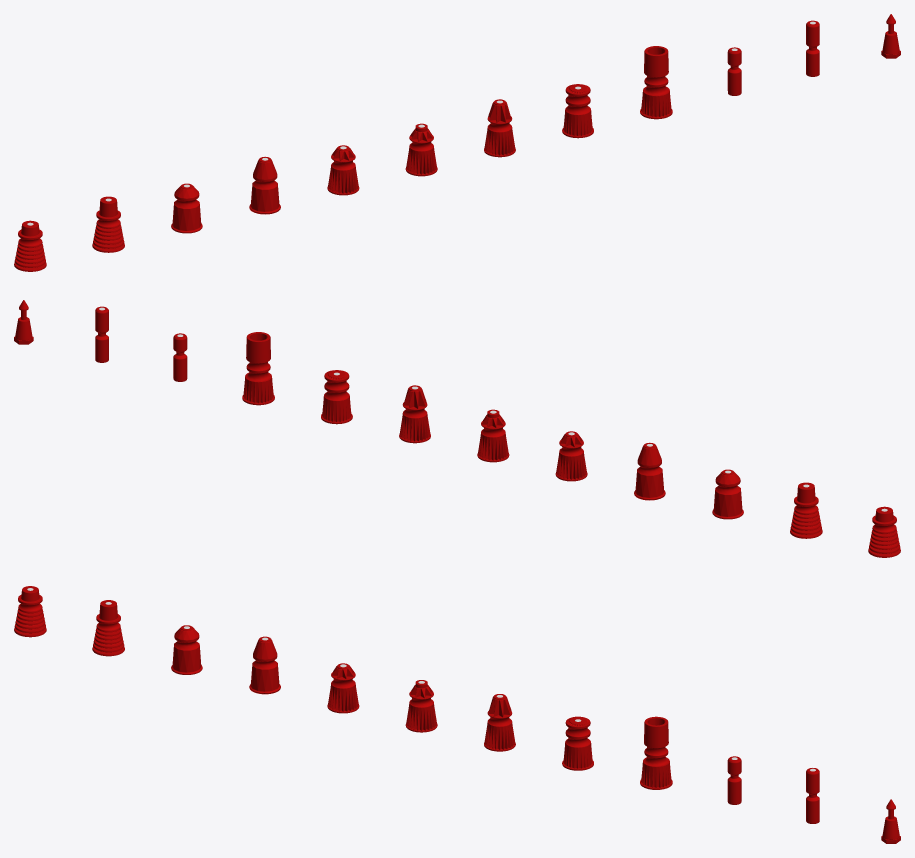
Rendered from Plastic Posts - Hipoly.fbx.
3 renders of one model, top to bottom at view 1: azimuth 30°, elevation 25°; view 2: azimuth 150°, elevation 25°; view 3: azimuth 330°, elevation 25°, orthographic.
Parts seen in each view (by area): view 1: Post - Plastic - Star - Double - 1 1/2" - Red, Post - Plastic - Faceted - 1 3/16" - Red, Post - Plastic - Star - Double - 1 1/16" - Red, Post - Plastic - Star - 1 3/16" - Red, Post - Plastic - Concentric Fin - 1 1/8" - Red, Post - Plastic - Concentric Fin - 1" - Red, Post - Plastic - Star - 1 1/16" - Red, Post - Plastic - Faceted - 1" - Red, Post - Plastic - Star - 1" - Red, Pegs - Plastic - T14 - 1 1/4" - Red, Pegs - Plastic - T14 - 1 1/16" - Red, Post - Plastic - Mini - Red; view 2: Post - Plastic - Star - Double - 1 1/2" - Red, Post - Plastic - Faceted - 1 3/16" - Red, Post - Plastic - Star - Double - 1 1/16" - Red, Post - Plastic - Star - 1 3/16" - Red, Post - Plastic - Concentric Fin - 1 1/8" - Red, Post - Plastic - Concentric Fin - 1" - Red, Post - Plastic - Star - 1 1/16" - Red, Post - Plastic - Faceted - 1" - Red, Post - Plastic - Star - 1" - Red, Pegs - Plastic - T14 - 1 1/4" - Red, Pegs - Plastic - T14 - 1 1/16" - Red, Post - Plastic - Mini - Red; view 3: Post - Plastic - Star - Double - 1 1/2" - Red, Post - Plastic - Faceted - 1 3/16" - Red, Post - Plastic - Star - 1 3/16" - Red, Post - Plastic - Star - Double - 1 1/16" - Red, Post - Plastic - Concentric Fin - 1 1/8" - Red, Post - Plastic - Concentric Fin - 1" - Red, Post - Plastic - Star - 1 1/16" - Red, Post - Plastic - Faceted - 1" - Red, Post - Plastic - Star - 1" - Red, Pegs - Plastic - T14 - 1 1/4" - Red, Pegs - Plastic - T14 - 1 1/16" - Red, Post - Plastic - Mini - Red.
Part boxes in pixels (bbox=[...]): Post - Plastic - Star - Double - 1 1/2" - Red: bbox=[640, 46, 672, 119]; Post - Plastic - Faceted - 1 3/16" - Red: bbox=[249, 156, 280, 214]; Post - Plastic - Star - Double - 1 1/16" - Red: bbox=[562, 84, 593, 138]; Post - Plastic - Star - 1 3/16" - Red: bbox=[484, 99, 515, 157]; Post - Plastic - Concentric Fin - 1 1/8" - Red: bbox=[92, 196, 124, 252]; Post - Plastic - Concentric Fin - 1" - Red: bbox=[14, 220, 46, 271]; Post - Plastic - Star - 1 1/16" - Red: bbox=[405, 123, 437, 176]; Post - Plastic - Faceted - 1" - Red: bbox=[171, 183, 202, 233]; Post - Plastic - Star - 1" - Red: bbox=[327, 145, 359, 195]; Pegs - Plastic - T14 - 1 1/4" - Red: bbox=[806, 20, 819, 76]; Pegs - Plastic - T14 - 1 1/16" - Red: bbox=[727, 47, 741, 95]; Post - Plastic - Mini - Red: bbox=[881, 14, 900, 58]; Post - Plastic - Star - Double - 1 1/2" - Red: bbox=[242, 332, 274, 405]; Post - Plastic - Faceted - 1 3/16" - Red: bbox=[634, 442, 665, 500]; Post - Plastic - Star - Double - 1 1/16" - Red: bbox=[321, 370, 352, 424]; Post - Plastic - Star - 1 3/16" - Red: bbox=[399, 385, 430, 443]; Post - Plastic - Concentric Fin - 1 1/8" - Red: bbox=[790, 482, 822, 538]; Post - Plastic - Concentric Fin - 1" - Red: bbox=[868, 506, 900, 557]; Post - Plastic - Star - 1 1/16" - Red: bbox=[477, 409, 509, 462]; Post - Plastic - Faceted - 1" - Red: bbox=[712, 469, 743, 519]; Post - Plastic - Star - 1" - Red: bbox=[555, 431, 587, 481]; Pegs - Plastic - T14 - 1 1/4" - Red: bbox=[95, 306, 108, 362]; Pegs - Plastic - T14 - 1 1/16" - Red: bbox=[173, 333, 187, 381]; Post - Plastic - Mini - Red: bbox=[14, 300, 33, 344]; Post - Plastic - Star - Double - 1 1/2" - Red: bbox=[640, 716, 672, 789]; Post - Plastic - Faceted - 1 3/16" - Red: bbox=[249, 636, 280, 694]; Post - Plastic - Star - 1 3/16" - Red: bbox=[484, 694, 515, 751]; Post - Plastic - Star - Double - 1 1/16" - Red: bbox=[562, 716, 593, 770]; Post - Plastic - Concentric Fin - 1 1/8" - Red: bbox=[92, 600, 124, 656]; Post - Plastic - Concentric Fin - 1" - Red: bbox=[14, 586, 46, 637]; Post - Plastic - Star - 1 1/16" - Red: bbox=[405, 680, 437, 732]; Post - Plastic - Faceted - 1" - Red: bbox=[171, 625, 202, 674]; Post - Plastic - Star - 1" - Red: bbox=[327, 663, 359, 713]; Pegs - Plastic - T14 - 1 1/4" - Red: bbox=[806, 768, 819, 823]; Pegs - Plastic - T14 - 1 1/16" - Red: bbox=[727, 756, 741, 804]; Post - Plastic - Mini - Red: bbox=[881, 799, 900, 843].
Size of the model in its own units: 57.29 by 3.81 by 1.84.
